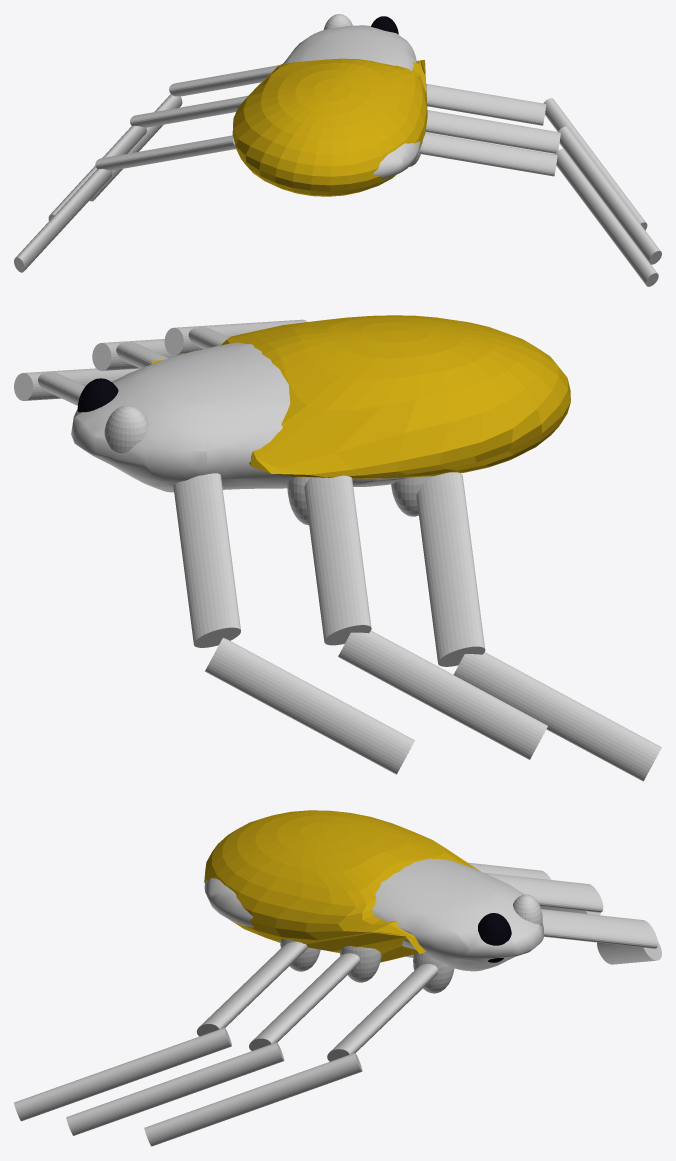
The model's file is pulgonautas.obj.
3 views of the same model, one above another, from view 1: azimuth 30°, elevation 25°; view 2: azimuth 150°, elevation 25°; view 3: azimuth 270°, elevation 25° (orthographic). The views are drawn at different scales.
Parts seen in each view (by area): view 1: Sphere, Mball, Cylinder.004_Cylinder.012, Cylinder.003_Cylinder.011, Cylinder_Cylinder.007, Cylinder.005_Cylinder.013, Cylinder.002_Cylinder.010, Cylinder.011_Cylinder.020, Cylinder.010_Cylinder.019, Cylinder.008_Cylinder.017, Cylinder.006_Cylinder.014, Cylinder.001_Cylinder.009 (+2 smaller); view 2: Sphere, Mball, Cylinder.010_Cylinder.019, Cylinder.009_Cylinder.018, Cylinder.007_Cylinder.016, Cylinder.006_Cylinder.014, Cylinder.011_Cylinder.020, Cylinder.008_Cylinder.017, Cylinder.001_Cylinder.009, Sphere.007, Cylinder.005_Cylinder.013, Cylinder.002_Cylinder.010 (+5 smaller); view 3: Sphere, Mball, Cylinder.001_Cylinder.009, Cylinder.002_Cylinder.010, Cylinder.005_Cylinder.013, Cylinder.006_Cylinder.014, Cylinder_Cylinder.007, Cylinder.003_Cylinder.011, Cylinder.004_Cylinder.012, Cylinder.008_Cylinder.017, Cylinder.009_Cylinder.018, Sphere.008 (+5 smaller).
Boxes of the visible parts, bbox=[...] form: Sphere: bbox=[232, 58, 427, 196]; Mball: bbox=[283, 25, 419, 179]; Cylinder.004_Cylinder.012: bbox=[419, 132, 557, 176]; Cylinder.003_Cylinder.011: bbox=[425, 110, 560, 153]; Cylinder_Cylinder.007: bbox=[426, 84, 546, 125]; Cylinder.005_Cylinder.013: bbox=[555, 148, 658, 286]; Cylinder.002_Cylinder.010: bbox=[558, 126, 661, 264]; Cylinder.011_Cylinder.020: bbox=[14, 169, 112, 272]; Cylinder.010_Cylinder.019: bbox=[95, 135, 235, 170]; Cylinder.008_Cylinder.017: bbox=[130, 95, 247, 127]; Cylinder.006_Cylinder.014: bbox=[169, 65, 279, 96]; Cylinder.001_Cylinder.009: bbox=[543, 98, 647, 230]; Sphere: bbox=[151, 315, 570, 478]; Mball: bbox=[71, 342, 407, 492]; Cylinder.010_Cylinder.019: bbox=[416, 472, 485, 666]; Cylinder.009_Cylinder.018: bbox=[205, 638, 414, 774]; Cylinder.007_Cylinder.016: bbox=[338, 630, 547, 759]; Cylinder.006_Cylinder.014: bbox=[173, 473, 240, 647]; Cylinder.011_Cylinder.020: bbox=[453, 652, 661, 781]; Cylinder.008_Cylinder.017: bbox=[304, 475, 371, 645]; Cylinder.001_Cylinder.009: bbox=[14, 368, 139, 400]; Sphere.007: bbox=[104, 405, 148, 453]; Cylinder.005_Cylinder.013: bbox=[164, 319, 307, 355]; Cylinder.002_Cylinder.010: bbox=[92, 339, 175, 370]; Sphere: bbox=[204, 810, 480, 962]; Mball: bbox=[204, 858, 543, 971]; Cylinder.001_Cylinder.009: bbox=[144, 1053, 362, 1146]; Cylinder.002_Cylinder.010: bbox=[66, 1042, 284, 1135]; Cylinder.005_Cylinder.013: bbox=[14, 1027, 231, 1121]; Cylinder.006_Cylinder.014: bbox=[541, 909, 657, 948]; Cylinder_Cylinder.007: bbox=[327, 964, 438, 1061]; Cylinder.003_Cylinder.011: bbox=[249, 953, 360, 1050]; Cylinder.004_Cylinder.012: bbox=[196, 941, 307, 1036]; Cylinder.008_Cylinder.017: bbox=[483, 872, 603, 912]; Cylinder.009_Cylinder.018: bbox=[597, 942, 661, 964]; Sphere.008: bbox=[478, 913, 511, 962].
Bounding box in the file's own units: 4.63 × 1.66 × 4.52.
